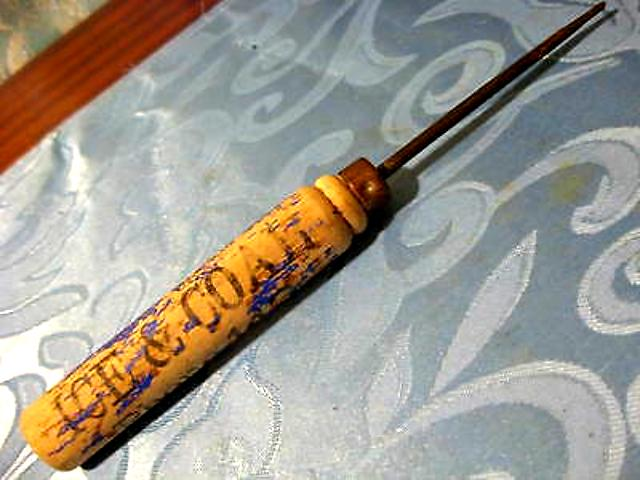ice pick: (22, 0, 606, 469)
